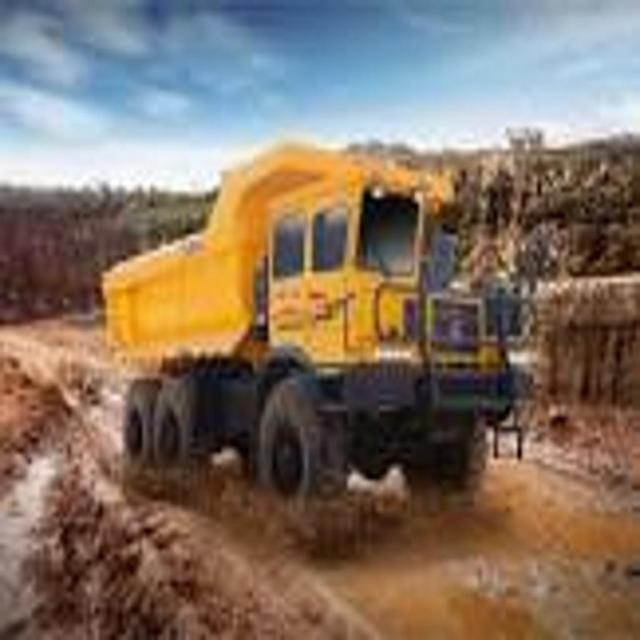dump_truck: (94, 125, 532, 531)
